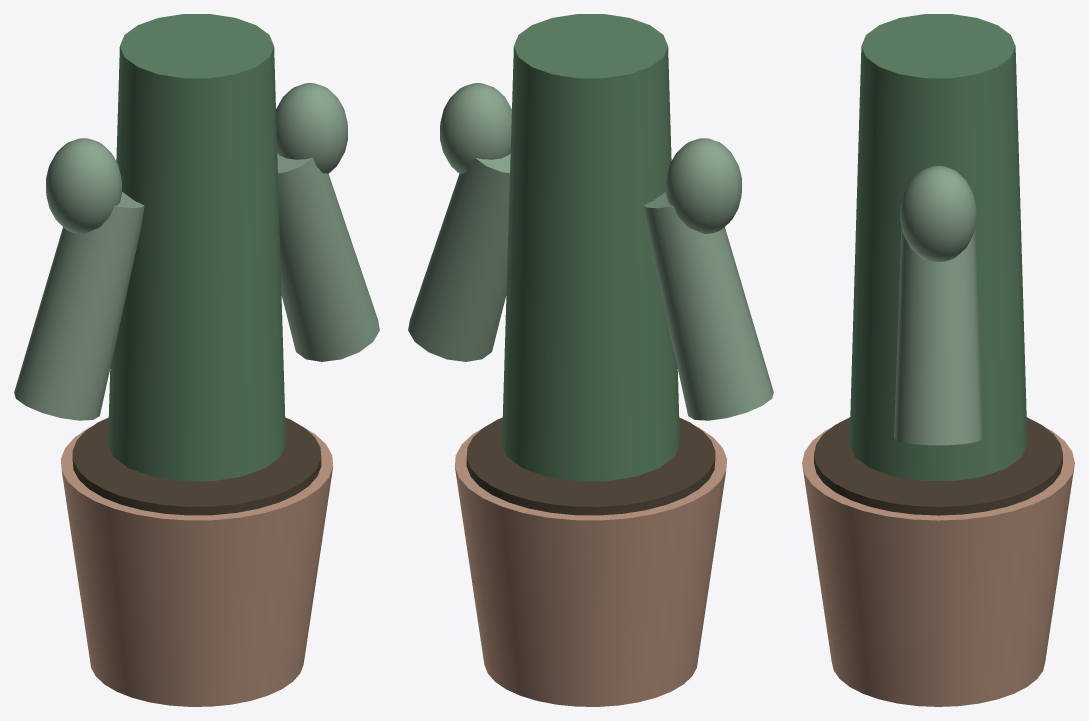
Rendered from plant_cactus.glb.
3 views of the same model, side by side, from view 1: azimuth 30°, elevation 25°; view 2: azimuth 150°, elevation 25°; view 3: azimuth 270°, elevation 25° (orthographic).
Visible parts, largest first — view 1: CactusCore, ClayPot, CactusBranch, _MeshInstance3D_66, PotSoil, BranchTip, _MeshInstance3D_67; view 2: CactusCore, ClayPot, CactusBranch, _MeshInstance3D_66, PotSoil, BranchTip, _MeshInstance3D_67; view 3: CactusCore, ClayPot, _MeshInstance3D_66, PotSoil, _MeshInstance3D_67.
Part boxes in pixels (left/top/right/bottom): CactusCore: left=108, top=14, right=285, bottom=481; ClayPot: left=60, top=426, right=333, bottom=706; CactusBranch: left=14, top=192, right=144, bottom=420; _MeshInstance3D_66: left=277, top=153, right=379, bottom=361; PotSoil: left=72, top=417, right=321, bottom=515; BranchTip: left=46, top=138, right=121, bottom=233; _MeshInstance3D_67: left=276, top=83, right=347, bottom=173; CactusCore: left=502, top=14, right=679, bottom=481; ClayPot: left=454, top=426, right=727, bottom=706; CactusBranch: left=643, top=192, right=773, bottom=420; _MeshInstance3D_66: left=408, top=153, right=510, bottom=361; PotSoil: left=466, top=417, right=715, bottom=515; BranchTip: left=666, top=138, right=741, bottom=233; _MeshInstance3D_67: left=440, top=83, right=511, bottom=173; CactusCore: left=849, top=14, right=1027, bottom=480; ClayPot: left=802, top=428, right=1074, bottom=706; _MeshInstance3D_66: left=894, top=225, right=982, bottom=445; PotSoil: left=814, top=417, right=1062, bottom=515; _MeshInstance3D_67: left=900, top=165, right=976, bottom=261.
Bounding box in the file's own units: 0.6856 × 1.14 × 0.46.
